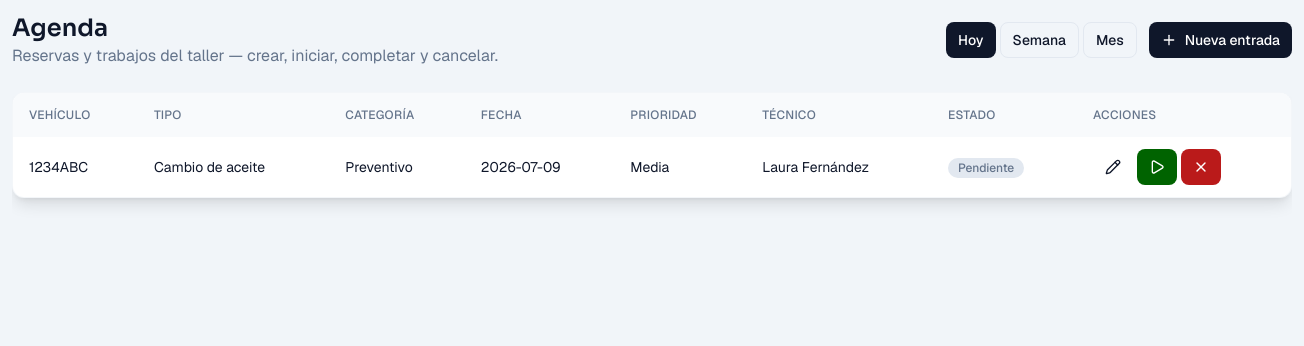
Workshop (Agenda) › starting an orphan schedule (no linked order) creates and starts one
The image size is (1304, 346).
Step 1. Click the button "Mes" → [1110, 40], box [1083,22,1137,58]
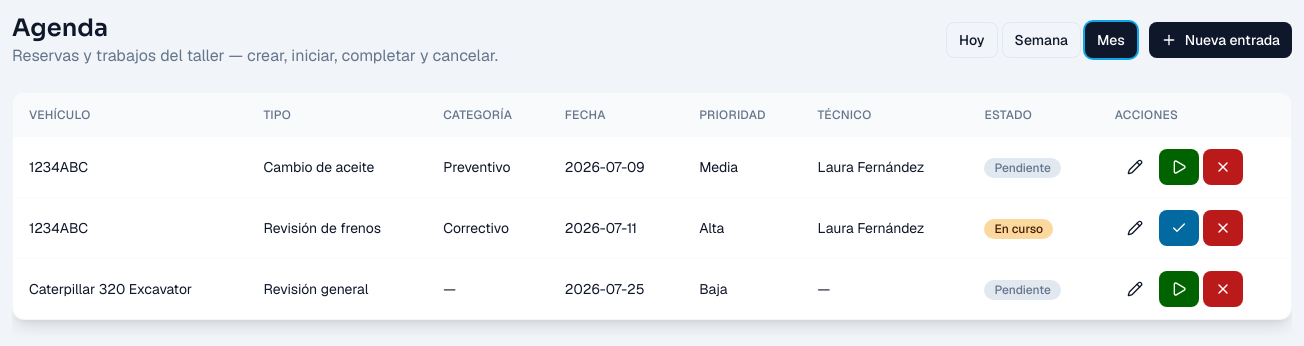
Expected: the text "—" is shown 2 times, [427,258,549,319]; [802,258,968,319]
Step 2. Click the button named "iniciar" in the row of "Caterpillar 320 Excavator" → [1179, 289], box [1159,271,1199,307]
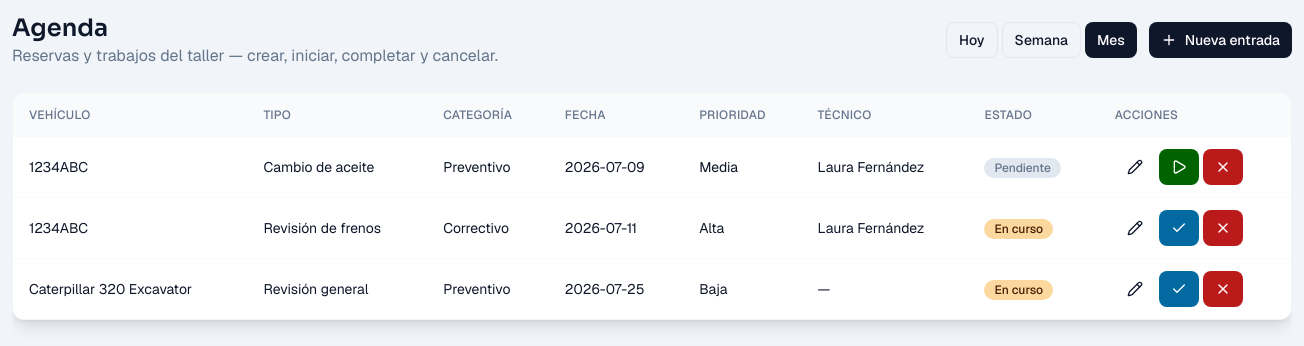
Expected: the text "—" is shown once, [802,258,968,319]
Expected: the text "En curso" in the row of "Caterpillar 320 Excavator" is shown, [994,282,1043,298]
Expected: the text "Preventivo" in the row of "Caterpillar 320 Excavator" is shown, [443,280,510,298]
